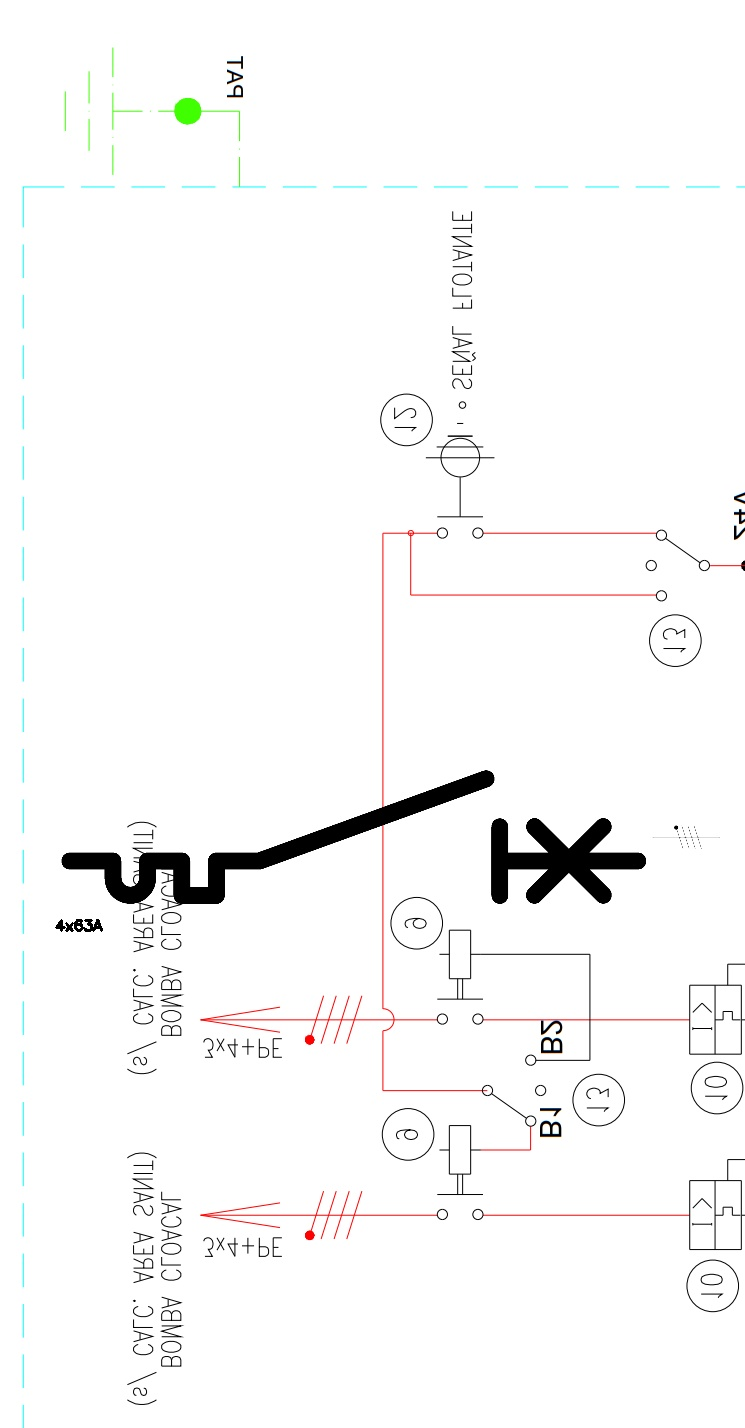interruptor_termomagnetico: (55, 764, 652, 910)
